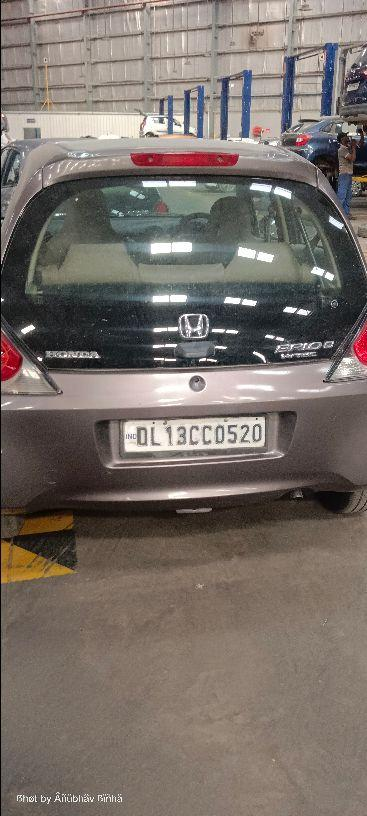license_plate: (119, 413, 268, 455)
